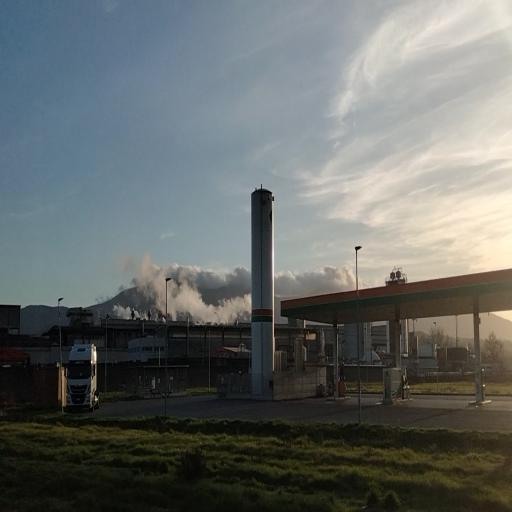leakage: (108, 250, 251, 327)
